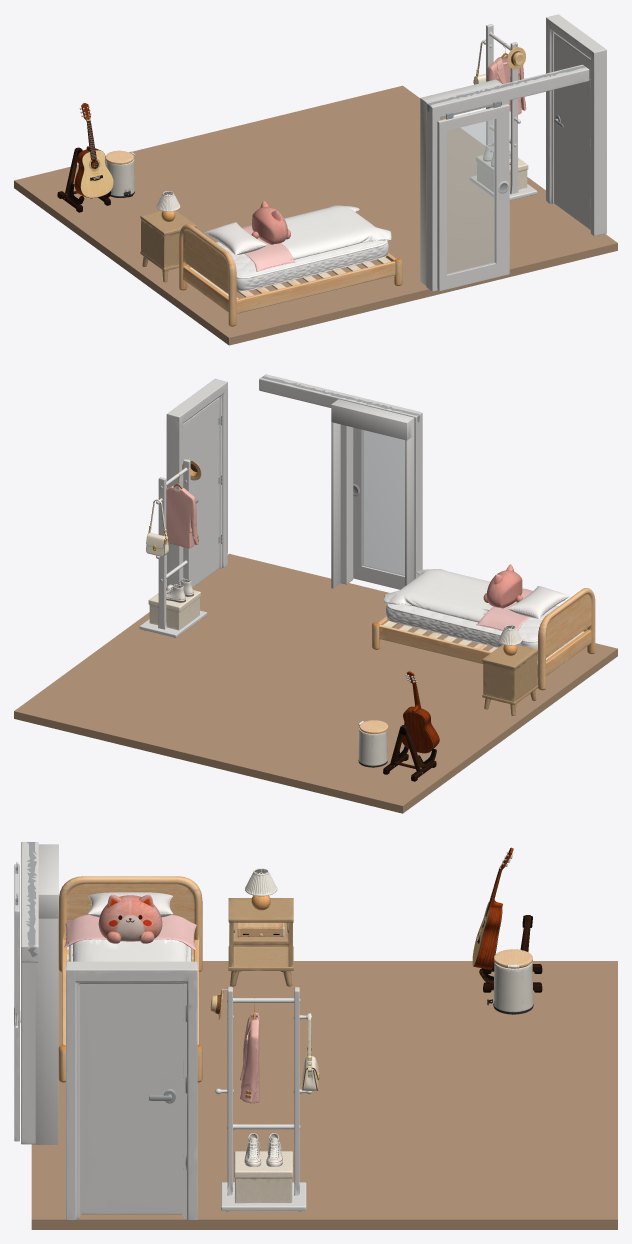
3 views of the same model, one above another, from view 1: azimuth 30°, elevation 25°; view 2: azimuth 150°, elevation 25°; view 3: azimuth 270°, elevation 25° (orthographic). The views are drawn at different scales.
Visible parts, largest first — view 1: bedroom.floor, bathroom.frostedGlass, b01-bed-frame.mesh.0, d02-closet-leaf.mesh.0, d04-entry-leaf.mesh.0, d03-entry-frame.mesh.0, d01-closet-frame.mesh.0, b03-duvet.mesh.0, b02-mattress.mesh.0, c01-coat-rack.mesh.0, n01-carcass.mesh.0, g01-guitar.mesh.0 (+7 smaller); view 2: bedroom.floor, b01-bed-frame.mesh.0, bathroom.frostedGlass, d01-closet-frame.mesh.0, d04-entry-leaf.mesh.0, b03-duvet.mesh.0, d03-entry-frame.mesh.0, c01-coat-rack.mesh.0, b02-mattress.mesh.0, n01-carcass.mesh.0, d02-closet-leaf.mesh.0, bathroom.reveal.head (+9 smaller); view 3: bedroom.floor, d04-entry-leaf.mesh.0, d03-entry-frame.mesh.0, c01-coat-rack.mesh.0, b01-bed-frame.mesh.0, bathroom.reveal.right, d01-closet-frame.mesh.0, n01-carcass.mesh.0, b03-duvet.mesh.0, b05-peach-cat.mesh.0, t01-bin-body.mesh.0, g01-guitar.mesh.0 (+12 smaller).
Boxes of the visible parts, x1,y1,x2,y2 form: bedroom.floor: (14,85,617,345); bathroom.frostedGlass: (447,119,495,274); b01-bed-frame.mesh.0: (179,224,402,326); d02-closet-leaf.mesh.0: (437,100,509,291); d04-entry-leaf.mesh.0: (554,33,590,229); d03-entry-frame.mesh.0: (546,14,606,236); d01-closet-frame.mesh.0: (426,64,589,291); b03-duvet.mesh.0: (242,205,391,271); b02-mattress.mesh.0: (216,240,388,291); c01-coat-rack.mesh.0: (470,24,537,200); n01-carcass.mesh.0: (140,210,196,282); g01-guitar.mesh.0: (74,103,113,198); bedroom.floor: (14,553,617,813); b01-bed-frame.mesh.0: (372,588,595,690); bathroom.frostedGlass: (362,430,404,575); d01-closet-frame.mesh.0: (259,374,422,584); d04-entry-leaf.mesh.0: (183,397,219,587); b03-duvet.mesh.0: (383,569,564,630); d03-entry-frame.mesh.0: (166,378,227,586); c01-coat-rack.mesh.0: (139,459,207,637); b02-mattress.mesh.0: (386,603,558,653); n01-carcass.mesh.0: (482,644,538,715); d02-closet-leaf.mesh.0: (353,427,404,589); bathroom.reveal.head: (331,399,414,440); bedroom.floor: (31,961,617,1229); d04-entry-leaf.mesh.0: (81,984,181,1214); d03-entry-frame.mesh.0: (66,961,197,1220); c01-coat-rack.mesh.0: (215,987,311,1211); b01-bed-frame.mesh.0: (58,876,202,1082); bathroom.reveal.right: (35,901,58,1144); d01-closet-frame.mesh.0: (21,842,38,1144); n01-carcass.mesh.0: (228,898,293,986); b03-duvet.mesh.0: (64,914,196,961); b05-peach-cat.mesh.0: (98,894,162,943); t01-bin-body.mesh.0: (493,962,533,1014); g01-guitar.mesh.0: (472,847,513,969).
Size of the model in its own units: 4.82 by 2.27 by 4.74.
32 materials, 24 textured.
